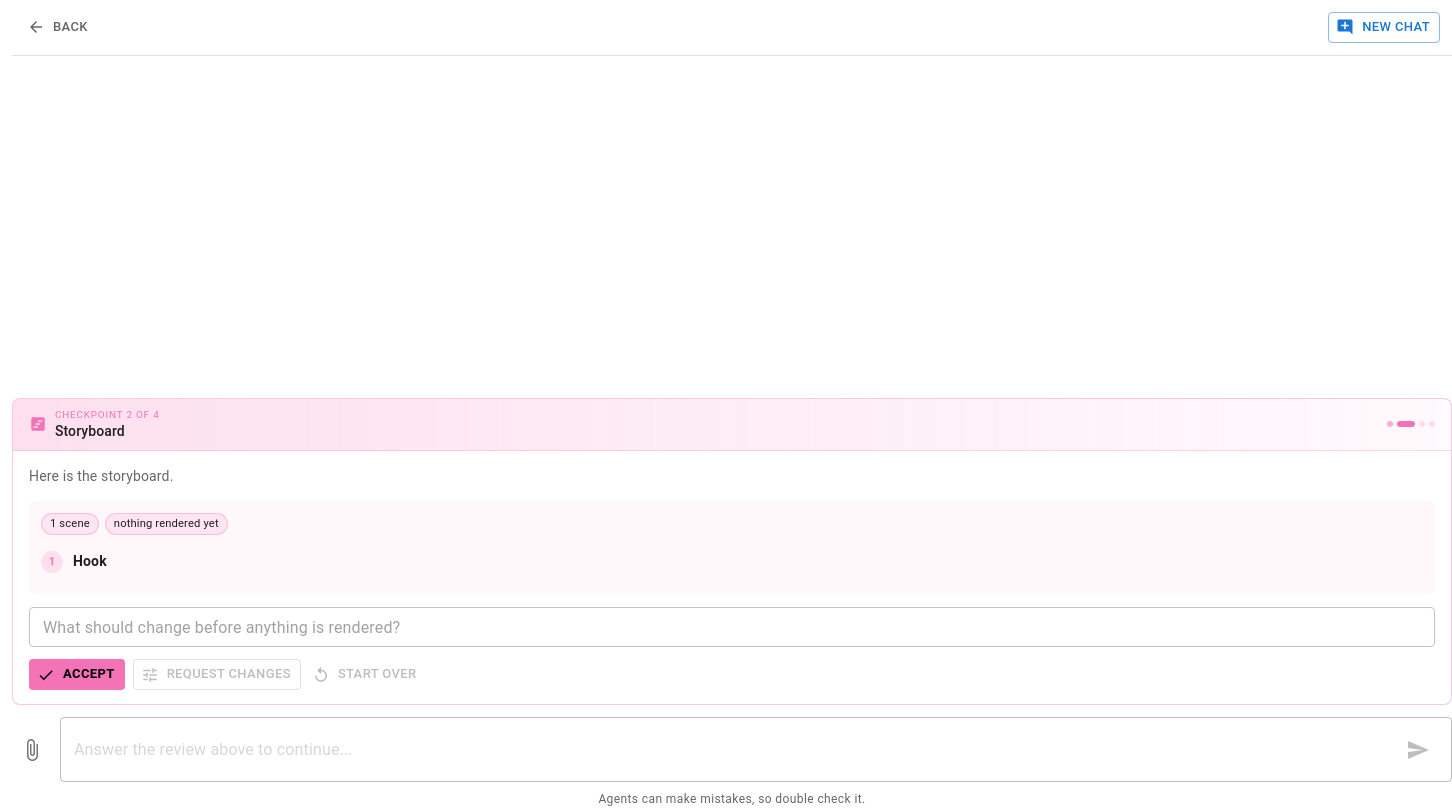
ActiveConversation › review checkpoints › keeps the control open when the answer fails to send
Check: the element with test id "gate-review-card" is shown, box [12, 398, 1451, 705]
Step 1. Click the button "Accept" → [77, 675], box [29, 659, 125, 690]
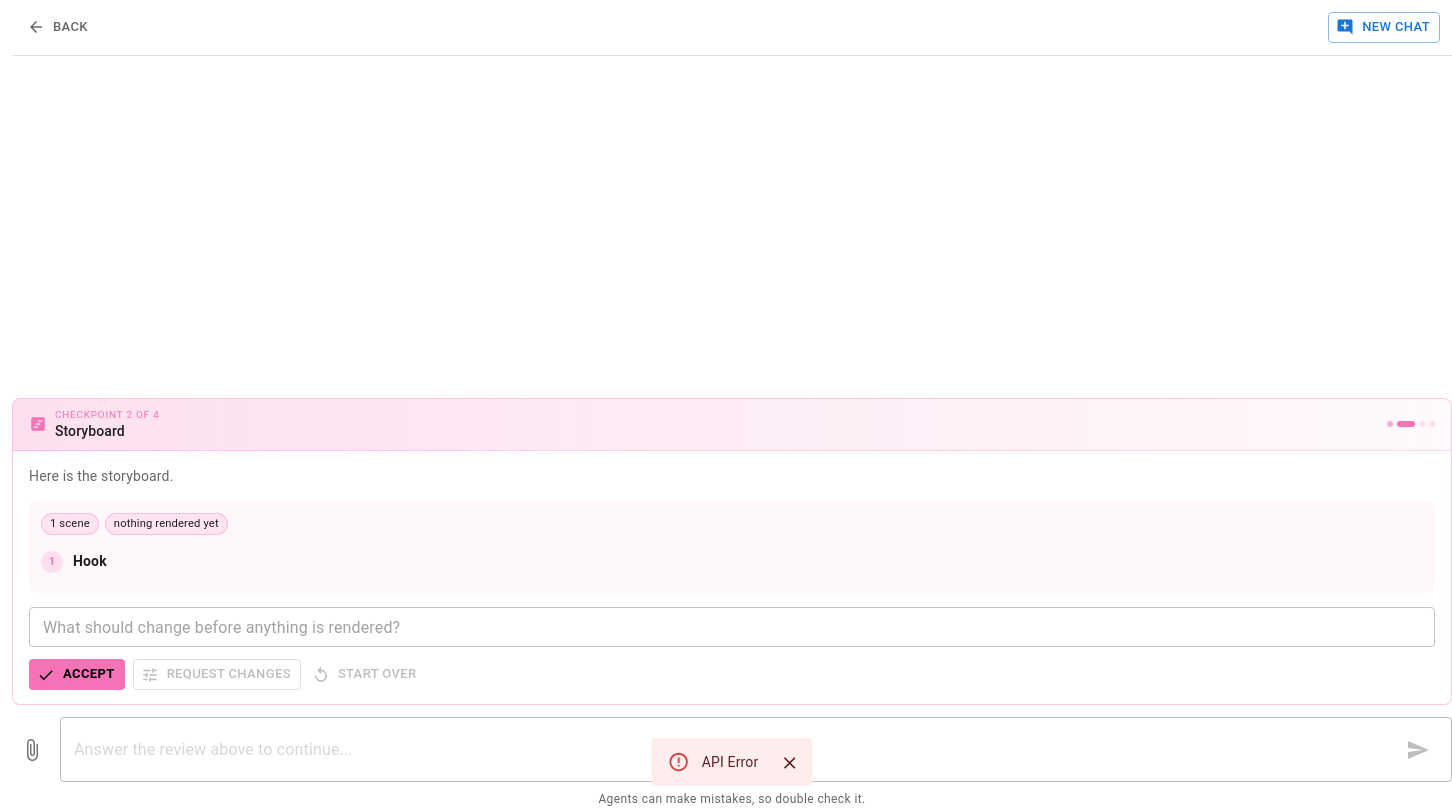
Check: the element with test id "gate-review-card" is shown, box [12, 398, 1451, 705]
Check: the message reads "API Error", box [702, 754, 758, 770]
